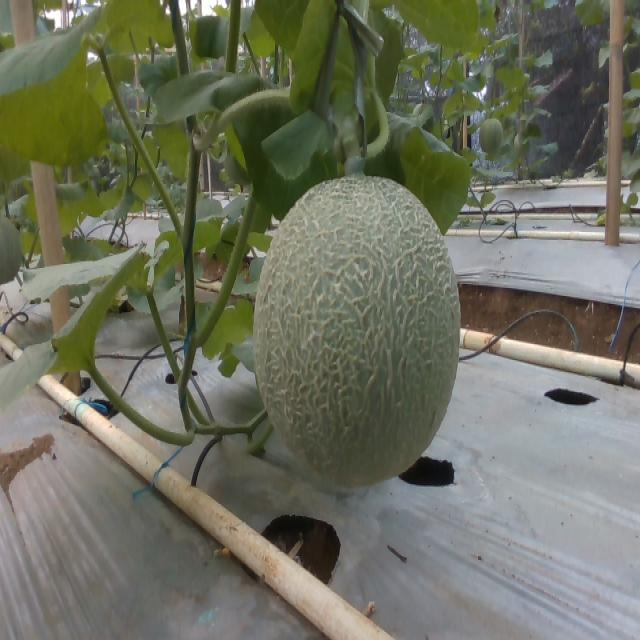melon: (254, 176, 461, 487)
